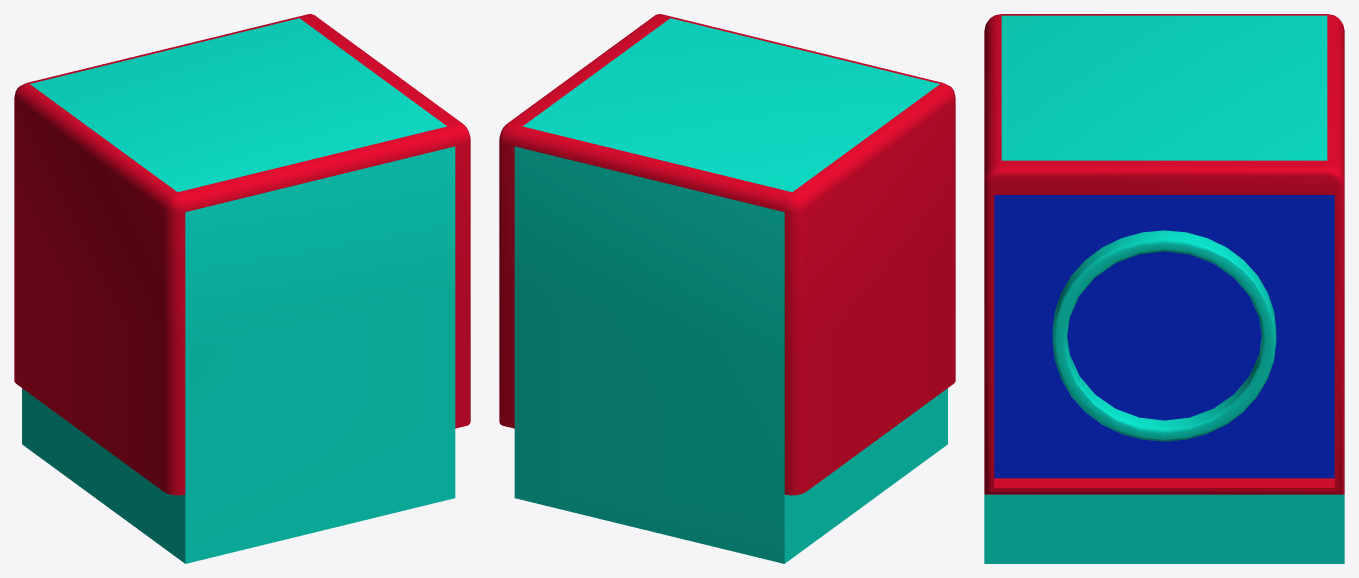
File: PressMachine_Base.fbx
The picture shows the model from 3 angles, left to right: view 1: azimuth 30°, elevation 25°; view 2: azimuth 150°, elevation 25°; view 3: azimuth 270°, elevation 25°; orthographic projection. The views are drawn at different scales.
Visible parts, largest first — view 1: PressMachine_Base; view 2: PressMachine_Base; view 3: PressMachine_Base.
Boxes of the visible parts, x1=… form: PressMachine_Base: x1=14, y1=14, x2=470, y2=563; PressMachine_Base: x1=499, y1=14, x2=955, y2=563; PressMachine_Base: x1=984, y1=14, x2=1344, y2=563.
Size of the model in its own units: 680 by 790 by 640.
